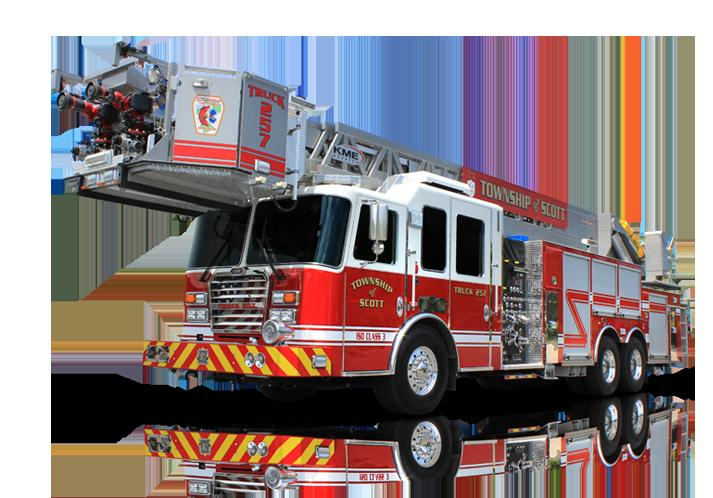Fire-engine: (50, 38, 693, 414)
